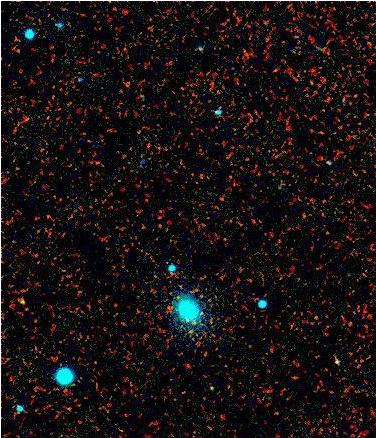star: (9, 286, 39, 316)
